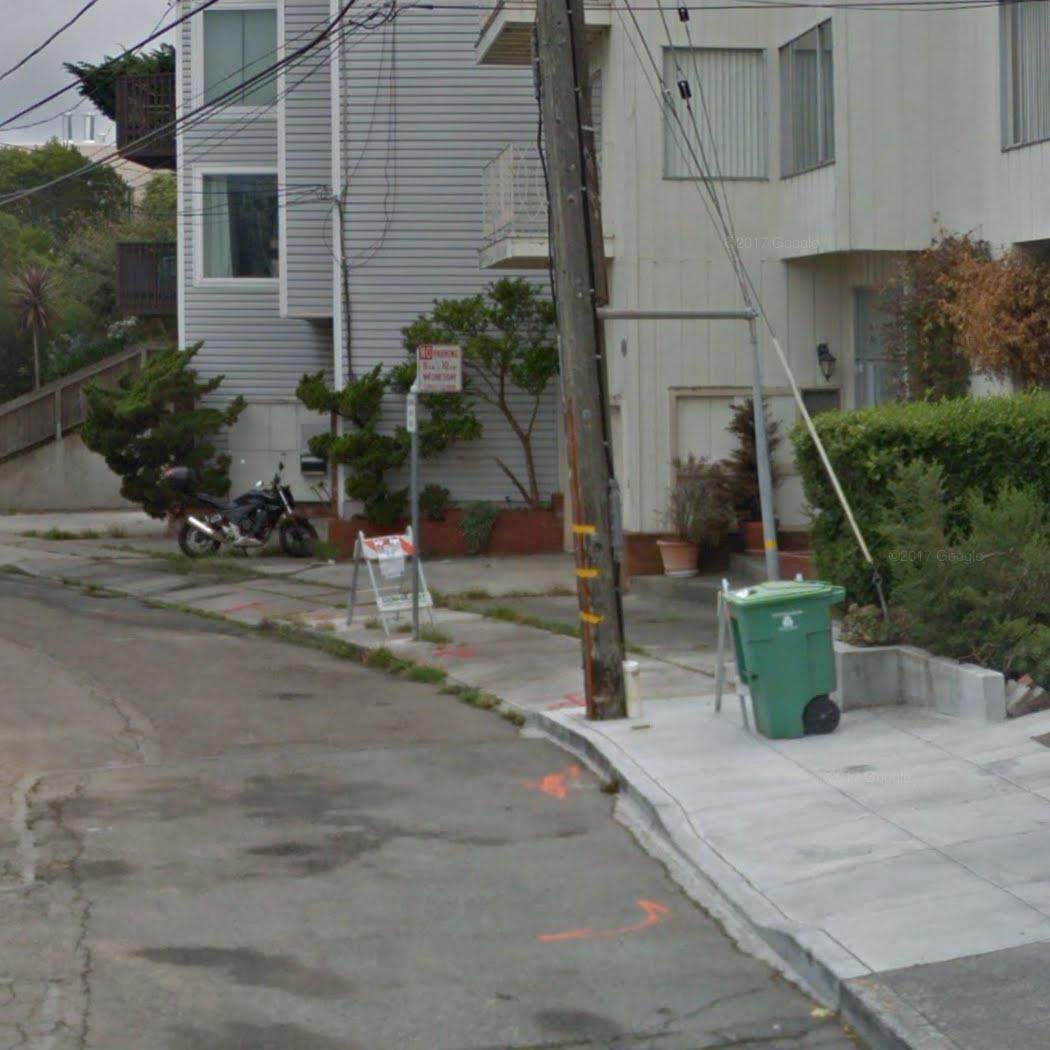No Parking: (410, 343, 467, 393)
